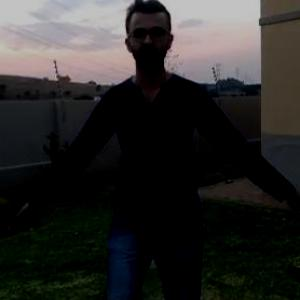land: (26, 20, 280, 299)
